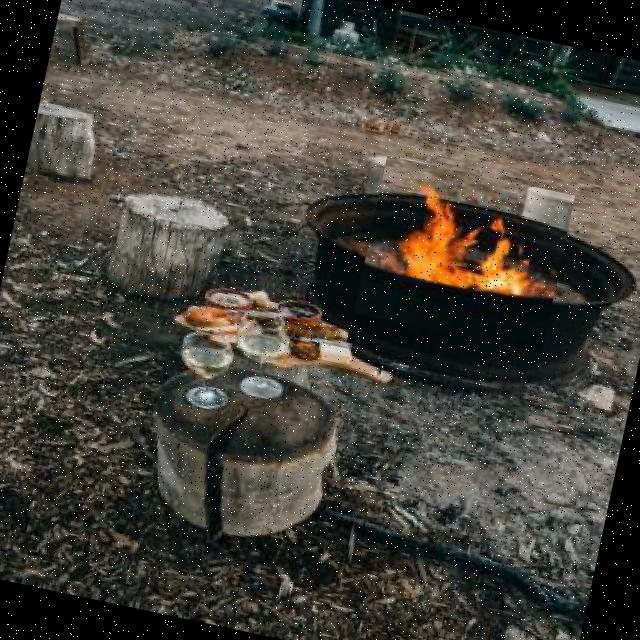fire: (353, 156, 574, 352)
